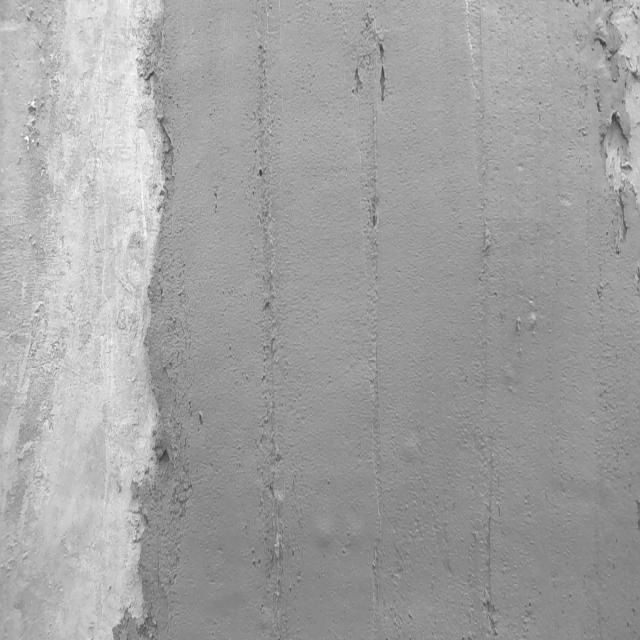trowels marks: (265, 190, 283, 573)
